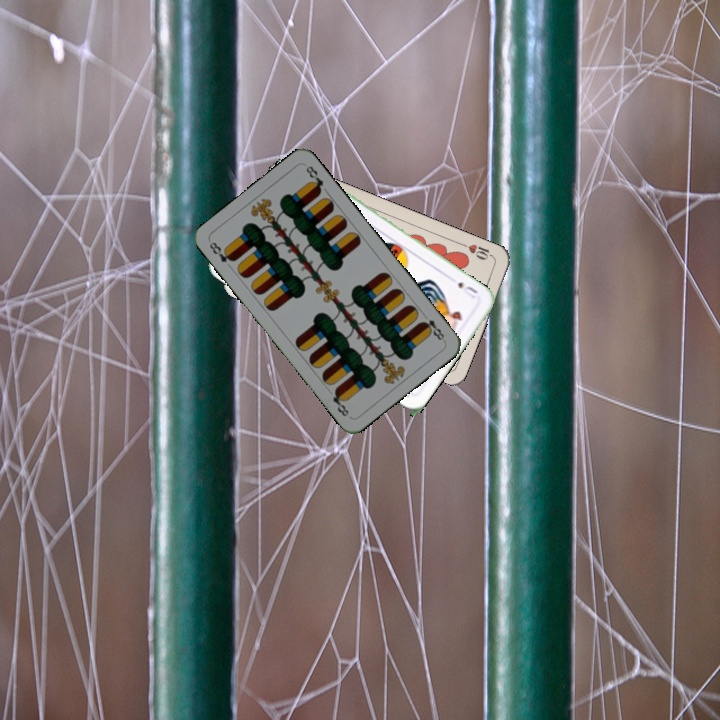E8: (417, 309, 447, 344), (205, 238, 238, 265)
H10: (458, 239, 497, 263)
SU: (454, 277, 480, 301)
